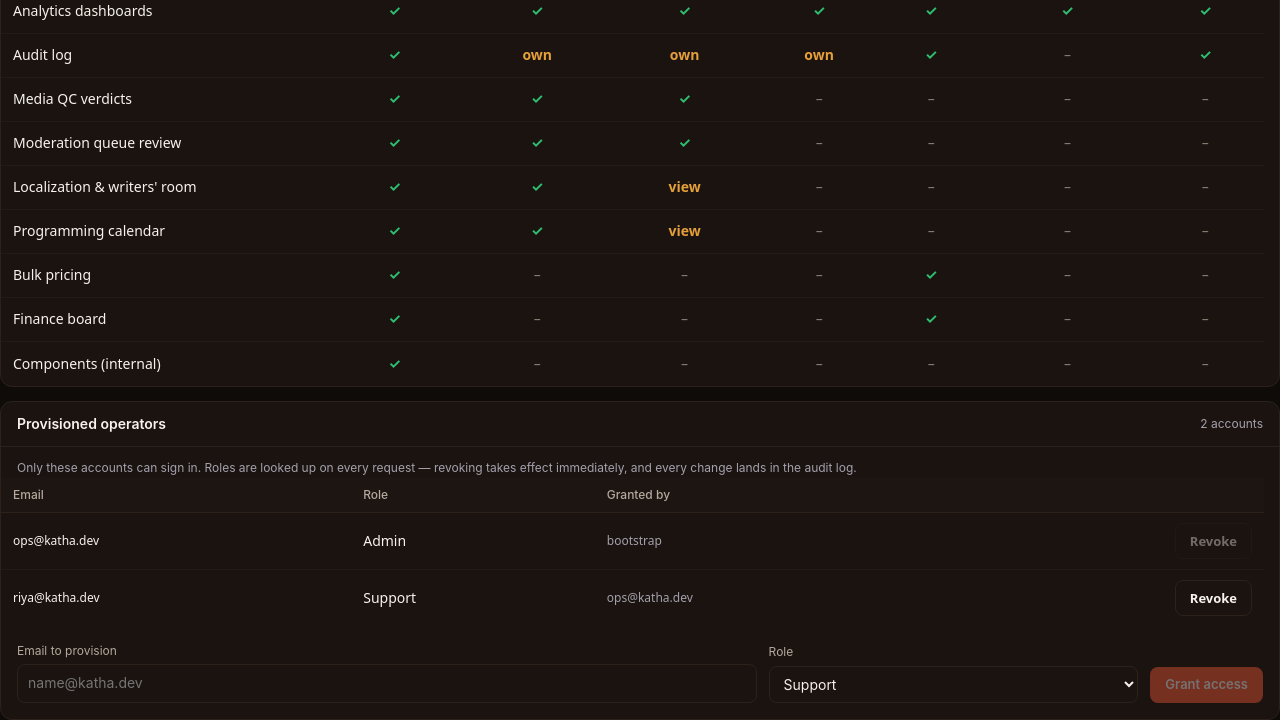
it: provisioned operators (Access · People) › revokes and reloads; server errors surface
The width and height of the screenshot is (1280, 720).
(page scrolled)
Expected: the text "riya@katha.dev" is shown, [1, 570, 351, 626]
Click the button "Revoke" in the row of "riya@katha.dev" at coordinates (1213, 598), box [1175, 580, 1252, 616]
(page scrolled)
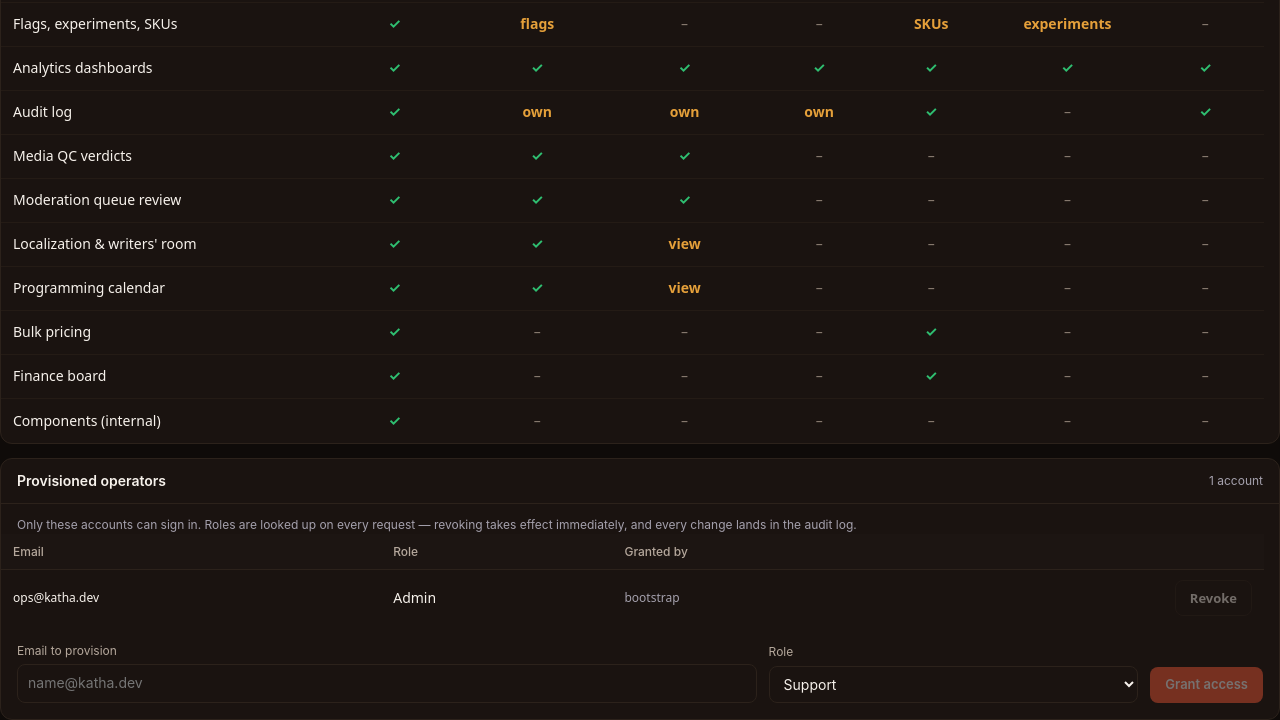
Now the text "riya@katha.dev" is gone
